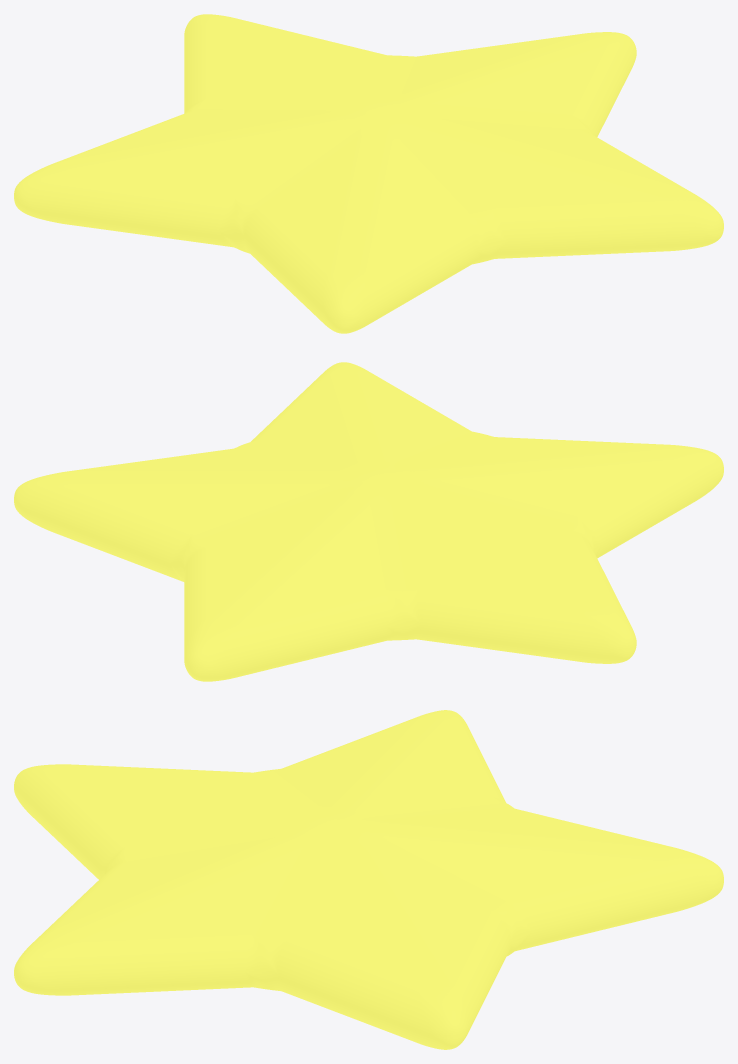
The model's file is sta.glb.
3 views of the same model, one above another, from view 1: azimuth 30°, elevation 25°; view 2: azimuth 150°, elevation 25°; view 3: azimuth 270°, elevation 25° (orthographic). The views are drawn at different scales.
Parts seen in each view (by area): view 1: Circle; view 2: Circle; view 3: Circle.
Boxes of the visible parts, bbox=[...] form: Circle: bbox=[14, 14, 723, 333]; Circle: bbox=[14, 362, 723, 681]; Circle: bbox=[14, 710, 723, 1049].
Size of the model in its own units: 1.82 by 0.2976 by 1.73.
